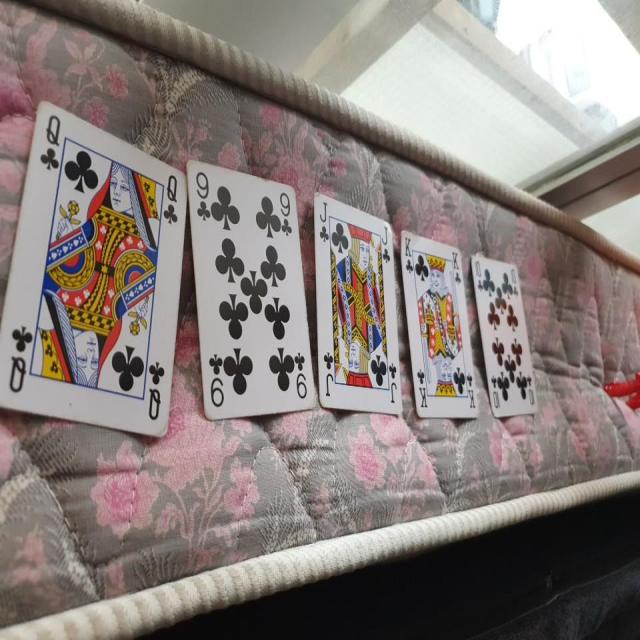10 Trefoils: (469, 254, 540, 417)
9 Trefoils: (184, 159, 317, 422)
J Trefoils: (312, 191, 406, 416)
K Trefoils: (399, 228, 480, 422)
Q Trefoils: (1, 100, 187, 433)
